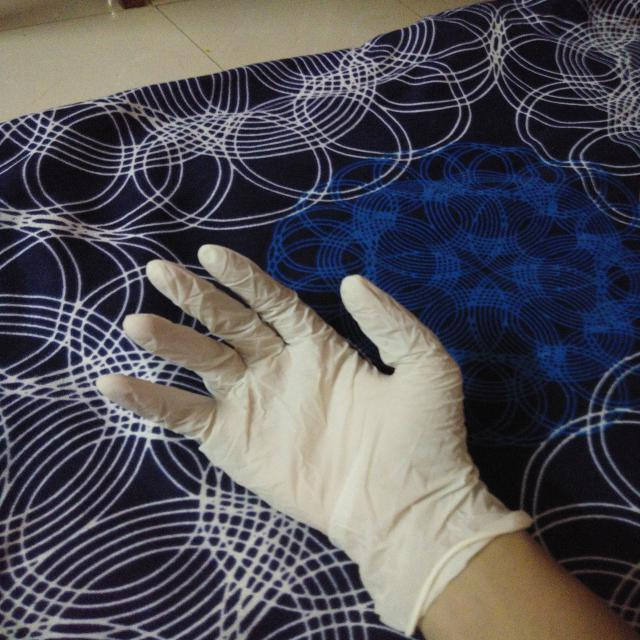gloved_hand: (89, 233, 553, 633)
